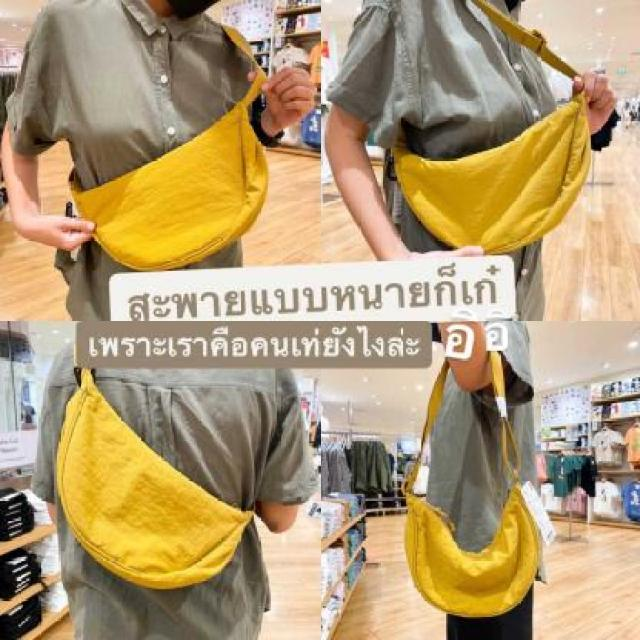Bag: (0, 362, 278, 623), (0, 84, 298, 284), (387, 333, 584, 633), (374, 71, 603, 283)
